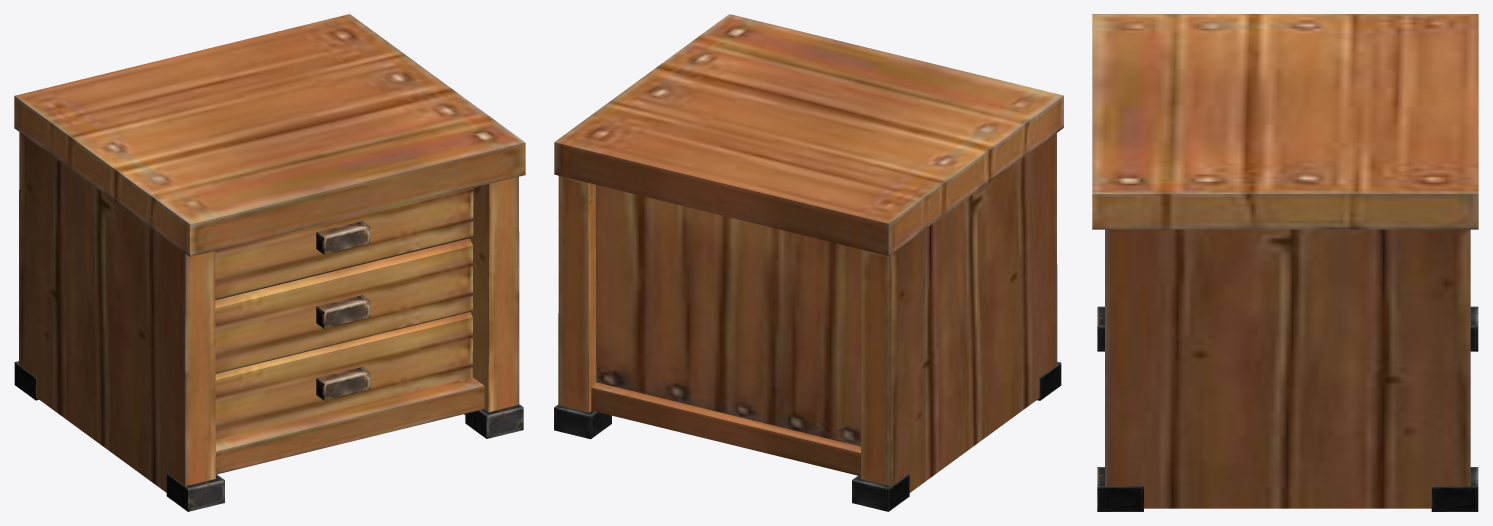
Rendered from SM_cupboard_07.gltf.
The picture shows the model from 3 angles, left to right: view 1: azimuth 30°, elevation 25°; view 2: azimuth 150°, elevation 25°; view 3: azimuth 270°, elevation 25°; orthographic projection. The views are drawn at different scales.
Parts seen in each view (by area): view 1: SM_cupboard_07; view 2: SM_cupboard_07; view 3: SM_cupboard_07.
Part boxes in pixels (x1=…): SM_cupboard_07: x1=14, y1=14, x2=525, y2=511; SM_cupboard_07: x1=554, y1=14, x2=1063, y2=511; SM_cupboard_07: x1=1092, y1=14, x2=1478, y2=511.
Bounding box in the file's own units: 0.8418 × 0.6931 × 0.7634.
Materials: 1 (1 with a texture image).
